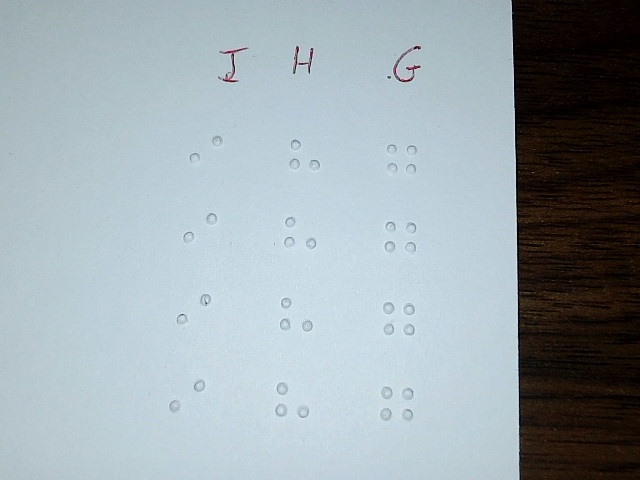G: (383, 133, 421, 191), (382, 212, 420, 270), (381, 292, 419, 350), (379, 377, 417, 435)
H: (287, 129, 325, 187), (281, 207, 319, 265), (278, 288, 316, 346), (273, 373, 311, 431)
I: (187, 124, 225, 182), (181, 212, 219, 270), (176, 283, 214, 341), (168, 368, 206, 426)
